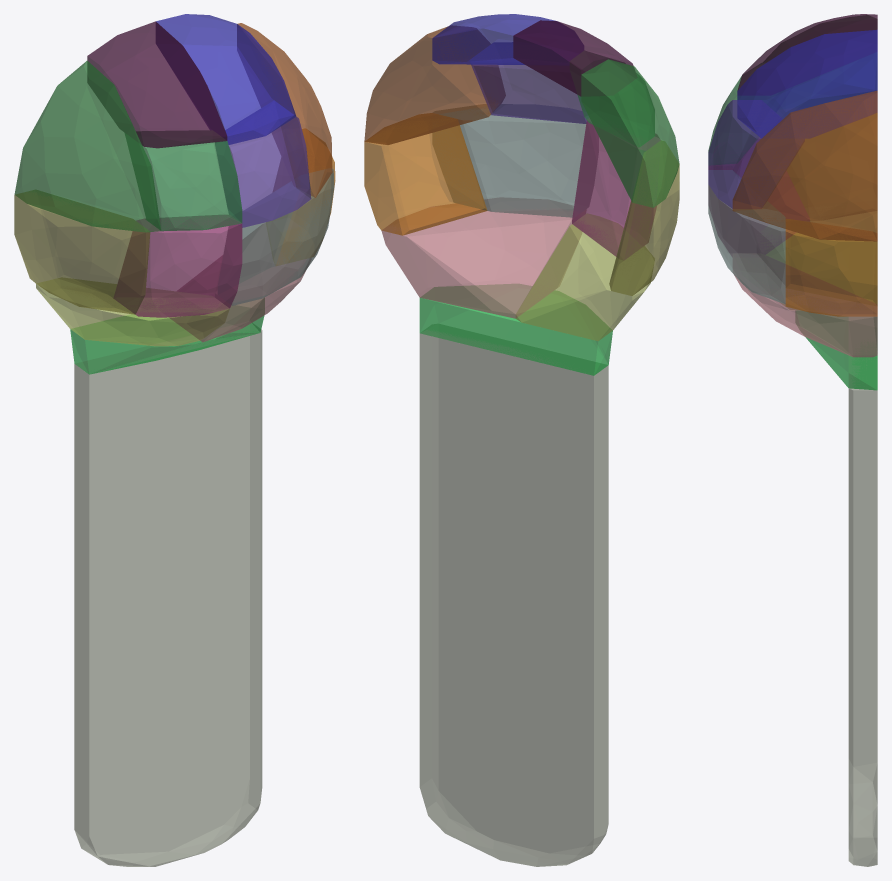
The model's file is green_spoon_vhacd.obj.
3 renders of one model, left to right at view 1: azimuth 30°, elevation 25°; view 2: azimuth 150°, elevation 25°; view 3: azimuth 270°, elevation 25°, orthographic. The views are drawn at different scales.
Parts seen in each view (by area): view 1: Shape_IndexedFaceSet, Shape_IndexedFaceSet.003, Shape_IndexedFaceSet.006, Shape_IndexedFaceSet.009, Shape_IndexedFaceSet.013, Shape_IndexedFaceSet.007, Shape_IndexedFaceSet.008, Shape_IndexedFaceSet.010, Shape_IndexedFaceSet.012, Shape_IndexedFaceSet.002, Shape_IndexedFaceSet.005, Shape_IndexedFaceSet.001 (+2 smaller); view 2: Shape_IndexedFaceSet, Shape_IndexedFaceSet.004, Shape_IndexedFaceSet.010, Shape_IndexedFaceSet.001, Shape_IndexedFaceSet.011, Shape_IndexedFaceSet.005, Shape_IndexedFaceSet.002, Shape_IndexedFaceSet.003, Shape_IndexedFaceSet.007, Shape_IndexedFaceSet.006, Shape_IndexedFaceSet.013, Shape_IndexedFaceSet.009 (+2 smaller); view 3: Shape_IndexedFaceSet.005, Shape_IndexedFaceSet, Shape_IndexedFaceSet.013, Shape_IndexedFaceSet.011, Shape_IndexedFaceSet.004, Shape_IndexedFaceSet.012, Shape_IndexedFaceSet.006, Shape_IndexedFaceSet.010, Shape_IndexedFaceSet.009, Shape_IndexedFaceSet.002, Shape_IndexedFaceSet.003, Shape_IndexedFaceSet.007 (+2 smaller).
Part boxes in pixels (x1,y1,x2,y2): Shape_IndexedFaceSet: [74, 323, 262, 866]; Shape_IndexedFaceSet.003: [14, 60, 161, 232]; Shape_IndexedFaceSet.006: [14, 190, 150, 314]; Shape_IndexedFaceSet.009: [87, 21, 227, 148]; Shape_IndexedFaceSet.013: [156, 14, 296, 144]; Shape_IndexedFaceSet.007: [113, 215, 242, 317]; Shape_IndexedFaceSet.008: [125, 131, 242, 231]; Shape_IndexedFaceSet.010: [218, 168, 334, 305]; Shape_IndexedFaceSet.012: [215, 101, 311, 227]; Shape_IndexedFaceSet.002: [36, 278, 229, 346]; Shape_IndexedFaceSet.005: [237, 23, 332, 197]; Shape_IndexedFaceSet.001: [70, 298, 264, 374]; Shape_IndexedFaceSet: [419, 324, 608, 866]; Shape_IndexedFaceSet.004: [381, 198, 586, 318]; Shape_IndexedFaceSet.010: [432, 104, 598, 217]; Shape_IndexedFaceSet.001: [419, 284, 612, 375]; Shape_IndexedFaceSet.011: [364, 113, 487, 235]; Shape_IndexedFaceSet.005: [364, 26, 505, 144]; Shape_IndexedFaceSet.002: [515, 213, 654, 341]; Shape_IndexedFaceSet.003: [581, 59, 679, 207]; Shape_IndexedFaceSet.007: [572, 118, 660, 259]; Shape_IndexedFaceSet.006: [609, 140, 679, 295]; Shape_IndexedFaceSet.013: [432, 14, 583, 64]; Shape_IndexedFaceSet.009: [513, 20, 636, 96]; Shape_IndexedFaceSet.005: [732, 91, 877, 241]; Shape_IndexedFaceSet: [848, 356, 877, 866]; Shape_IndexedFaceSet.013: [737, 29, 877, 138]; Shape_IndexedFaceSet.011: [785, 219, 877, 316]; Shape_IndexedFaceSet.004: [733, 254, 877, 357]; Shape_IndexedFaceSet.012: [708, 100, 804, 208]; Shape_IndexedFaceSet.006: [787, 113, 876, 219]; Shape_IndexedFaceSet.010: [708, 170, 785, 304]; Shape_IndexedFaceSet.009: [737, 14, 877, 94]; Shape_IndexedFaceSet.002: [766, 211, 876, 309]; Shape_IndexedFaceSet.003: [764, 15, 876, 109]; Shape_IndexedFaceSet.007: [708, 138, 809, 255].
Size of the model in its own units: 0.0675 by 0.1846 by 0.0347.
